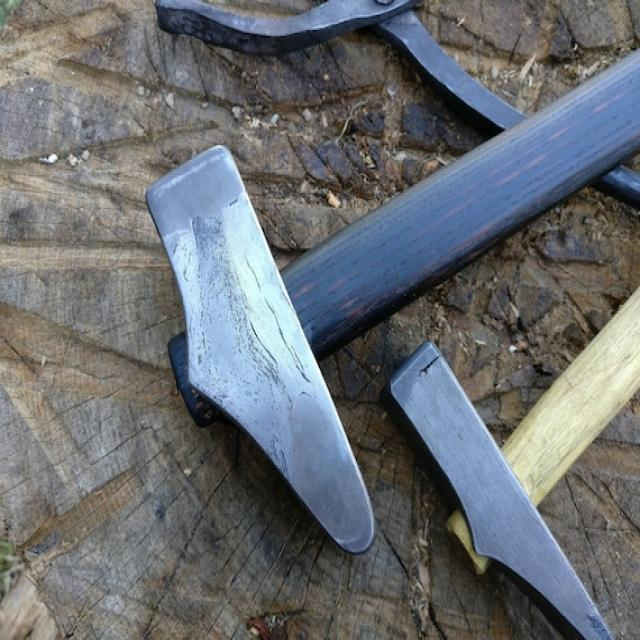hammer: (137, 42, 640, 560), (383, 281, 640, 640)
